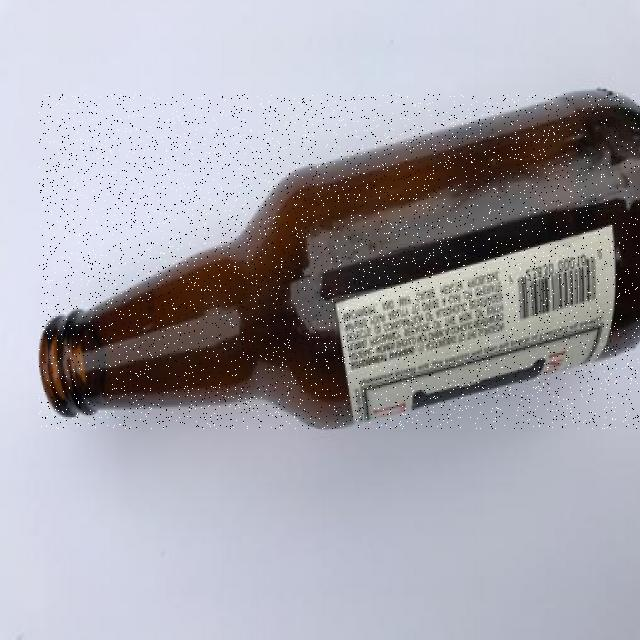glass: (39, 94, 640, 428)
